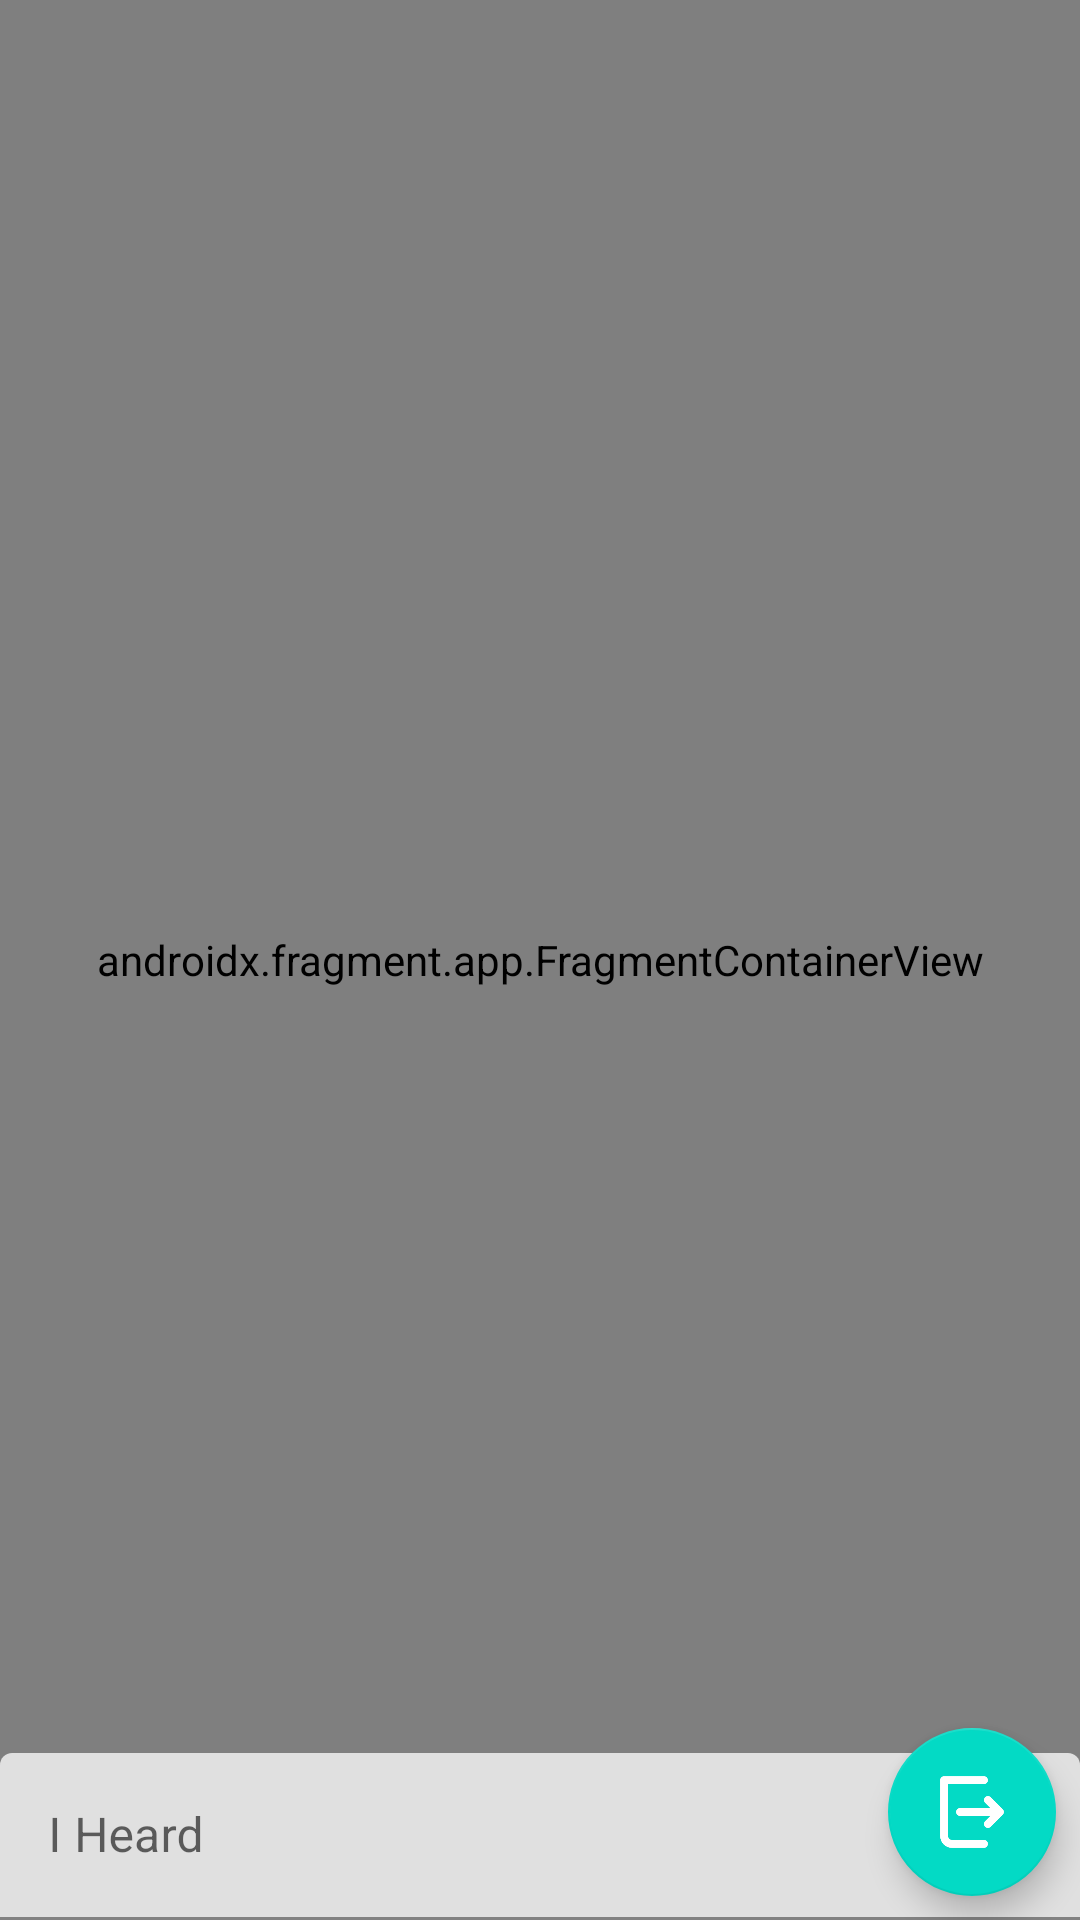

Named icons in this screenshot (1080w x 1920h) and their centers, (x,y):
Exit Application: (972,1812)
